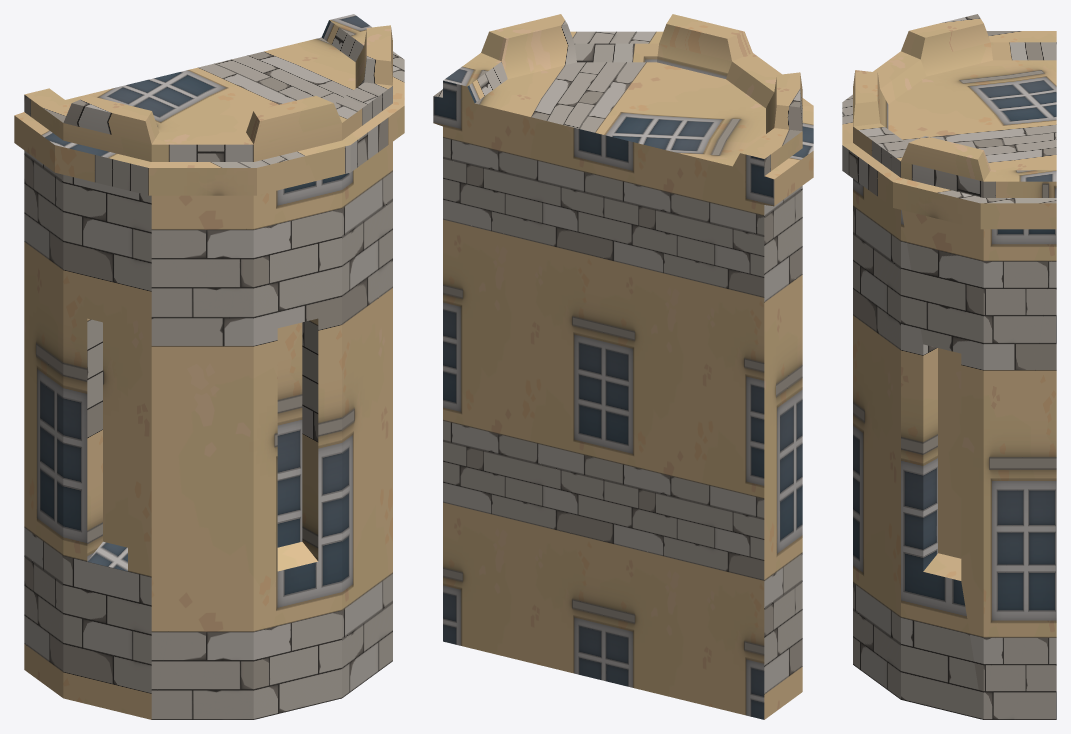
File: SM_Bld_Background_Wall_Tower_Half_01.fbx
3 renders of one model, left to right at view 1: azimuth 30°, elevation 25°; view 2: azimuth 150°, elevation 25°; view 3: azimuth 270°, elevation 25°, orthographic. The views are drawn at different scales.
Visible parts, largest first — view 1: SM_Bld_Background_Wall_Tower_Half_01; view 2: SM_Bld_Background_Wall_Tower_Half_01; view 3: SM_Bld_Background_Wall_Tower_Half_01.
Boxes of the visible parts, x1=… form: SM_Bld_Background_Wall_Tower_Half_01: x1=14, y1=14, x2=404, y2=719; SM_Bld_Background_Wall_Tower_Half_01: x1=433, y1=14, x2=813, y2=719; SM_Bld_Background_Wall_Tower_Half_01: x1=842, y1=14, x2=1056, y2=719.
Size of the model in its own units: 1192 by 1942 by 676.
